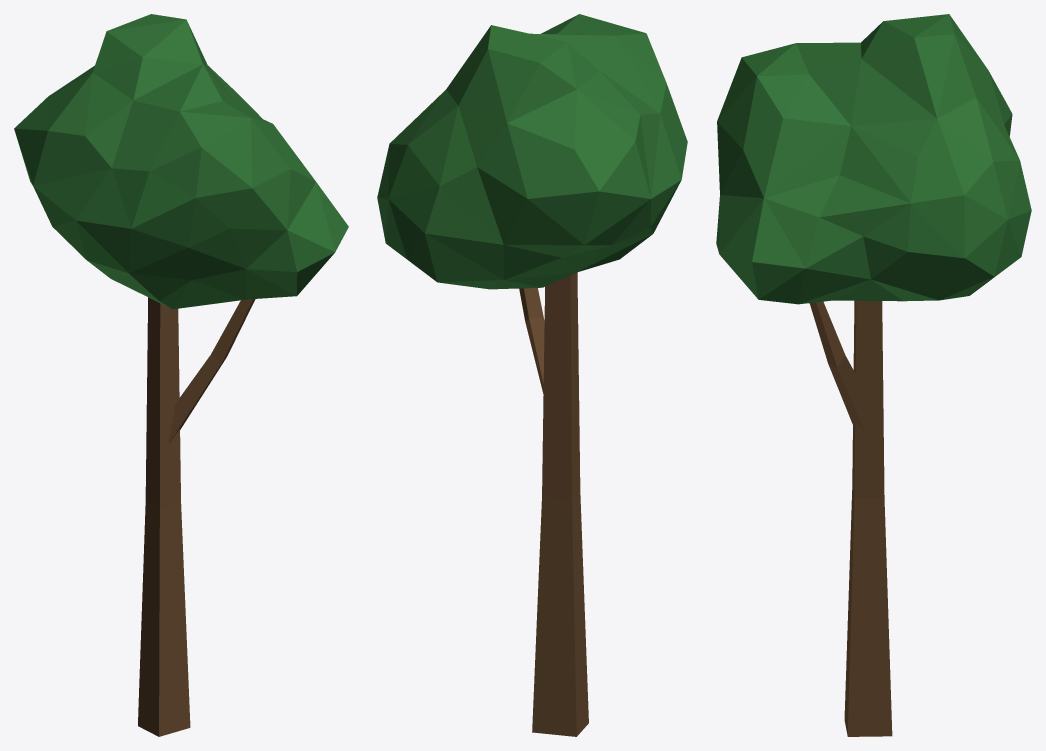
File: tree-tall.glb
3 views of the same model, side by side, from view 1: azimuth 30°, elevation 25°; view 2: azimuth 150°, elevation 25°; view 3: azimuth 270°, elevation 25° (orthographic). The views are drawn at different scales.
Parts seen in each view (by area): view 1: tree-tall; view 2: tree-tall; view 3: tree-tall.
Boxes of the visible parts, box(x1,y1,x2,y2) form: tree-tall: box(14, 14, 348, 736); tree-tall: box(377, 14, 687, 736); tree-tall: box(716, 14, 1031, 736).
Bounding box in the file's own units: 2.12 × 5.7 × 2.28.
